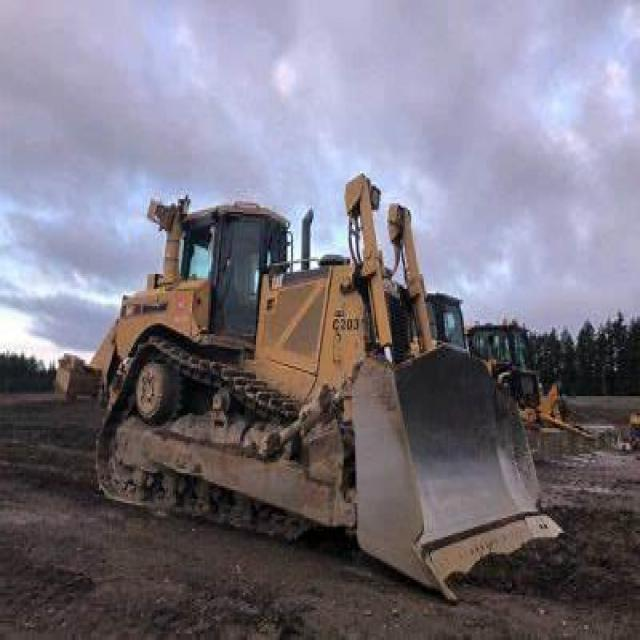Bulldozer: (47, 161, 580, 595)
